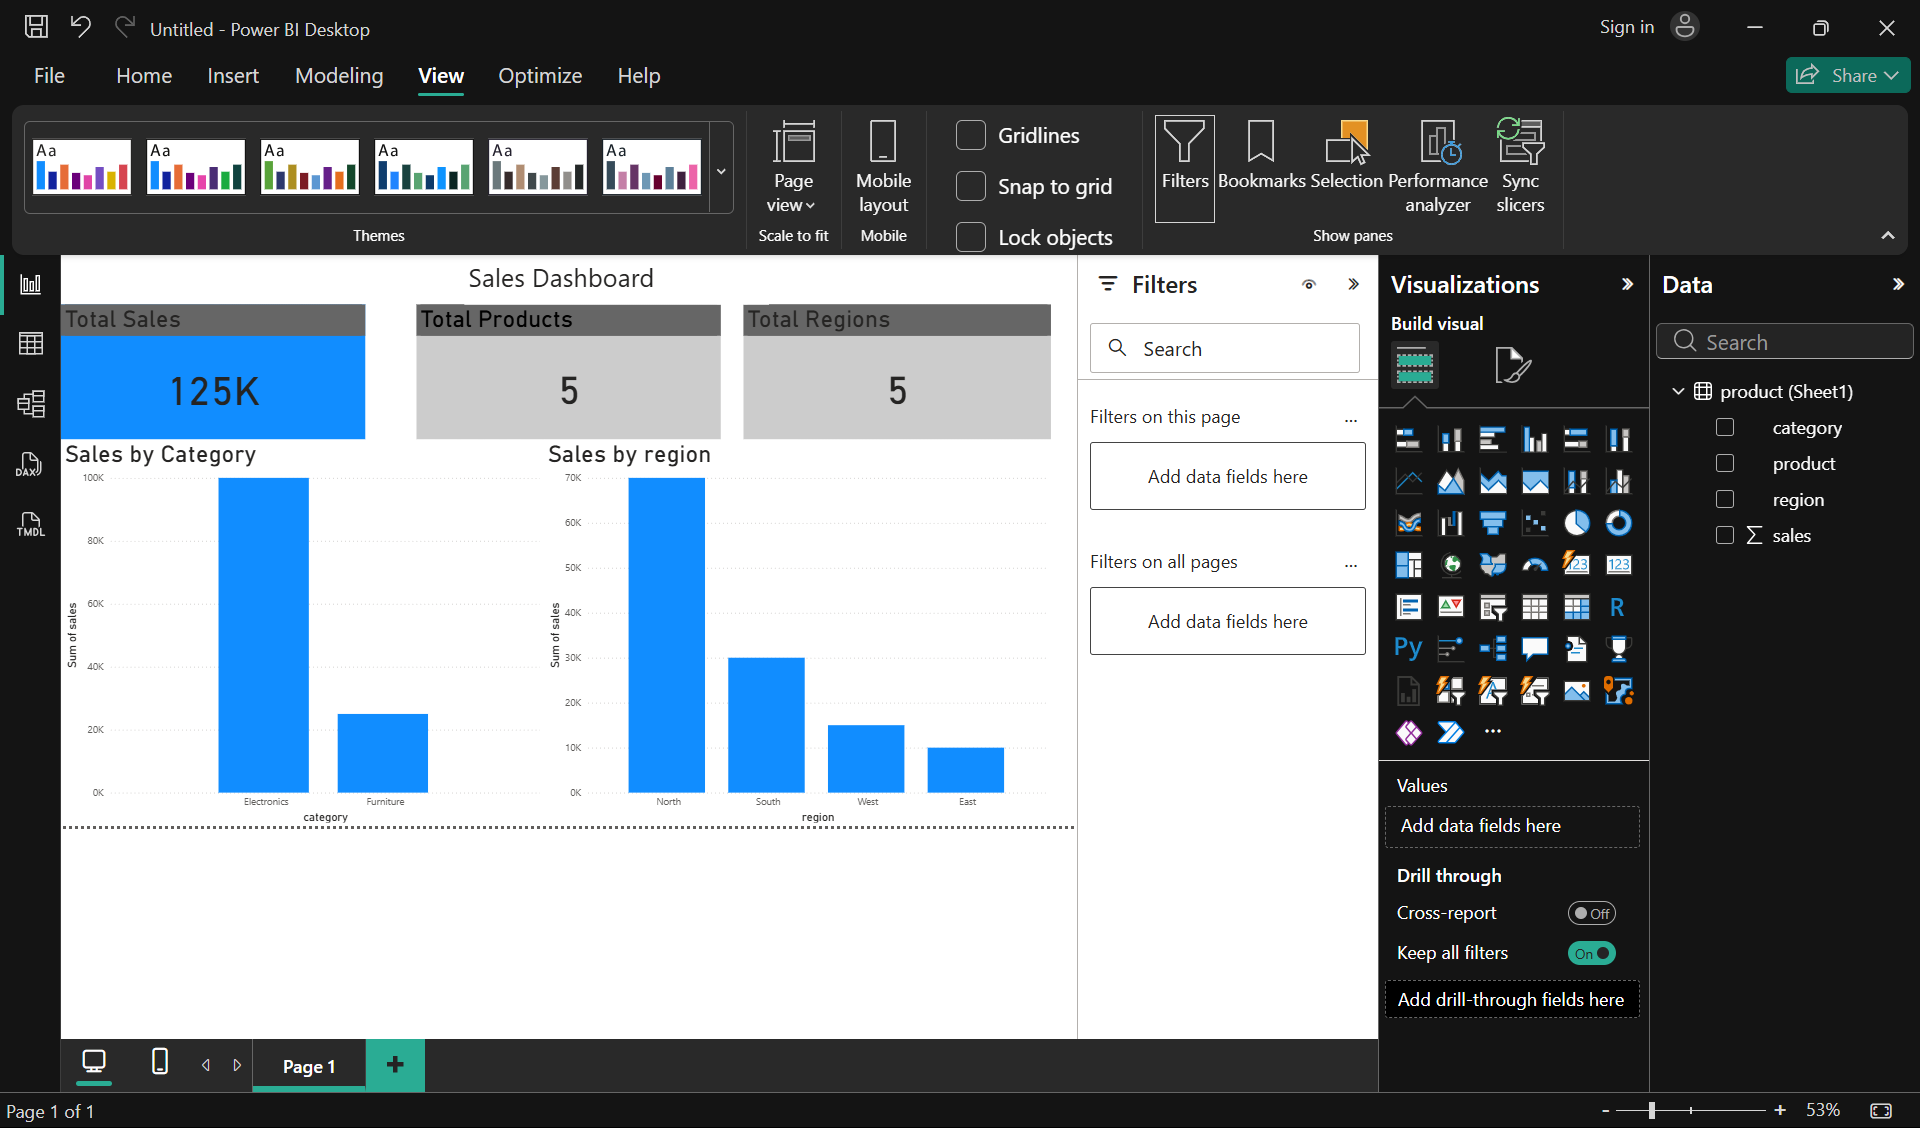

What the dashboard file says about the page in this screenshot:
{"tool":"powerbi","page":{"name":"Page 1","canvas":[1280,720],"ordinal":0},"visuals":[{"type":"card","title":"Total Sales","fields":{"Values":["Sum(product (Sheet1).sales)"]},"box":[0,62.4,383.6,170.1],"z":0},{"type":"card","title":"Total Products","fields":{"Values":["CountNonNull(product (Sheet1).product)"]},"box":[447.9,62.4,383.6,170.1],"z":1},{"type":"card","title":"Total Regions","fields":{"Values":["CountNonNull(product (Sheet1).region)"]},"box":[859.8,62.4,387.4,170.1],"z":2},{"type":"textbox","box":[508.4,0,383.6,62.4],"z":3},{"type":"columnChart","title":"Sales by Category","fields":{"Category":["product (Sheet1).category"],"Y":["Sum(product (Sheet1).sales)"]},"box":[0,232.4,608.5,487.6],"z":4},{"type":"columnChart","title":"Sales by region","fields":{"Category":["product (Sheet1).region"],"Y":["Sum(product (Sheet1).sales)"]},"box":[608.5,232.4,638.7,487.6],"z":5}]}

Visuals, with their boxes on the page's 1280x720 design canvas (x1, y1, x2, y2). These are canvas units, not pixel positions in the 1920x1128 screenshot, which may show the page scaled, cropped or inside an application window:
"Total Sales" card: bbox(0, 62, 384, 232)
"Total Products" card: bbox(448, 62, 832, 232)
"Total Regions" card: bbox(860, 62, 1247, 232)
textbox: bbox(508, 0, 892, 62)
"Sales by Category" columnChart: bbox(0, 232, 608, 720)
"Sales by region" columnChart: bbox(608, 232, 1247, 720)
